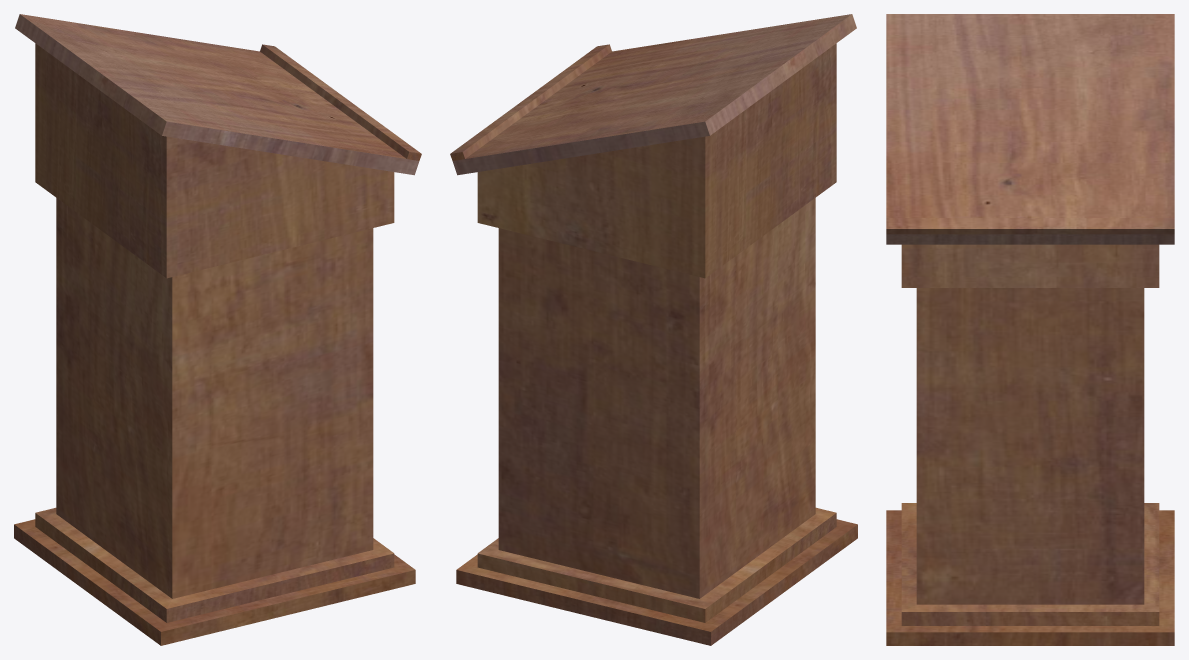
The model's file is Podium.fbx.
3 views of the same model, side by side, from view 1: azimuth 30°, elevation 25°; view 2: azimuth 150°, elevation 25°; view 3: azimuth 270°, elevation 25° (orthographic).
Parts seen in each view (by area): view 1: Box001; view 2: Box001; view 3: Box001.
Part boxes in pixels (left/top/right/bottom): Box001: left=14, top=14, right=421, bottom=645; Box001: left=450, top=14, right=857, bottom=645; Box001: left=886, top=14, right=1174, bottom=645.
Size of the model in its own units: 107 by 205 by 105.
